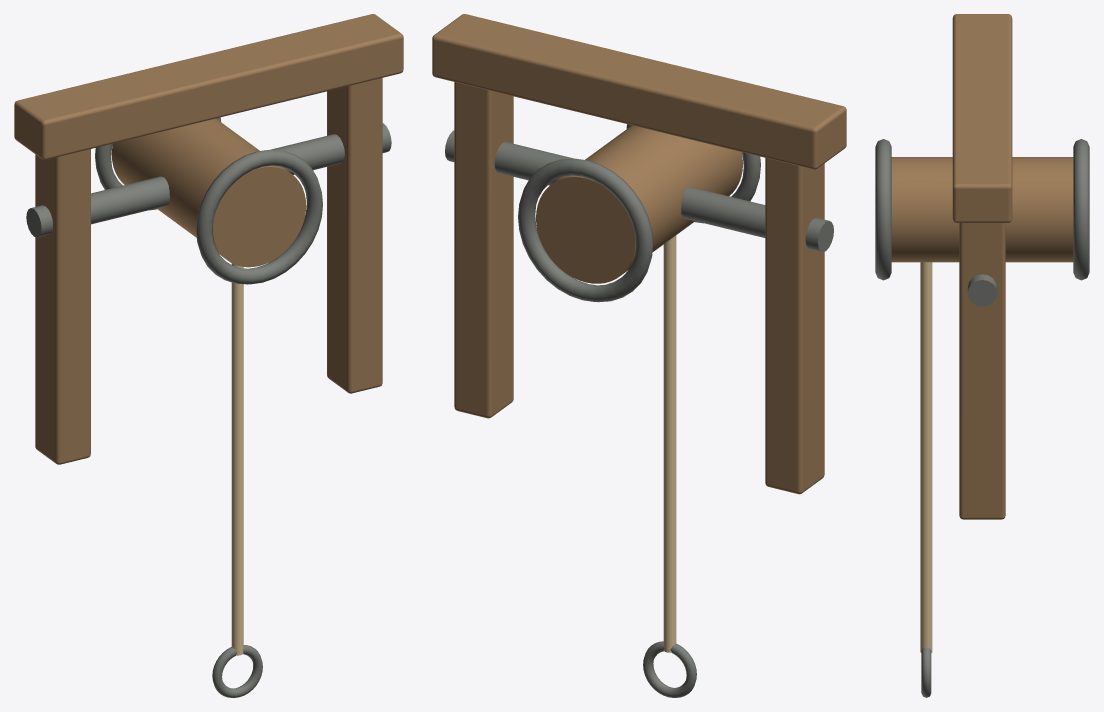
File: sack-hoist.glb
3 renders of one model, left to right at view 1: azimuth 30°, elevation 25°; view 2: azimuth 150°, elevation 25°; view 3: azimuth 270°, elevation 25°, orthographic. The views are drawn at different scales.
Parts seen in each view (by area): view 1: sack-hoist; view 2: sack-hoist; view 3: sack-hoist.
Boxes of the visible parts, x1,y1,x2,y2 form: sack-hoist: (14,14,403,697); sack-hoist: (432,14,846,697); sack-hoist: (875,14,1089,697).
Size of the model in its own units: 1.24 by 1.99 by 0.6501.
